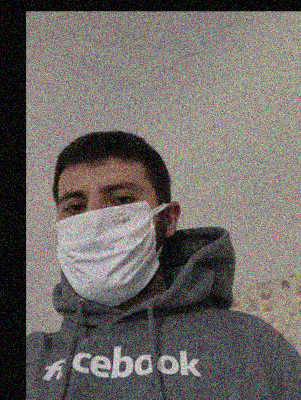with_mask: (57, 181, 161, 307)
